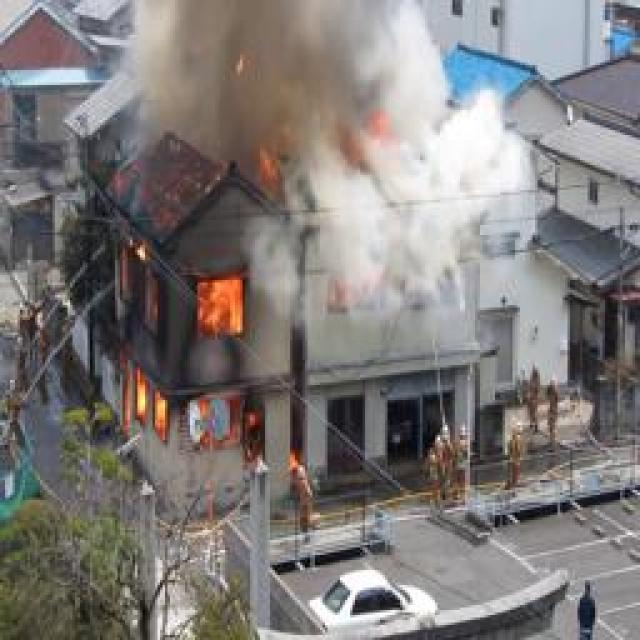Fire: (115, 224, 311, 503)
